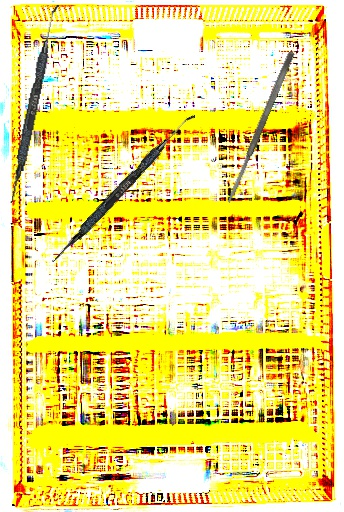Spatula Surgical: (50, 108, 196, 268), (223, 49, 297, 206), (8, 3, 59, 205)
